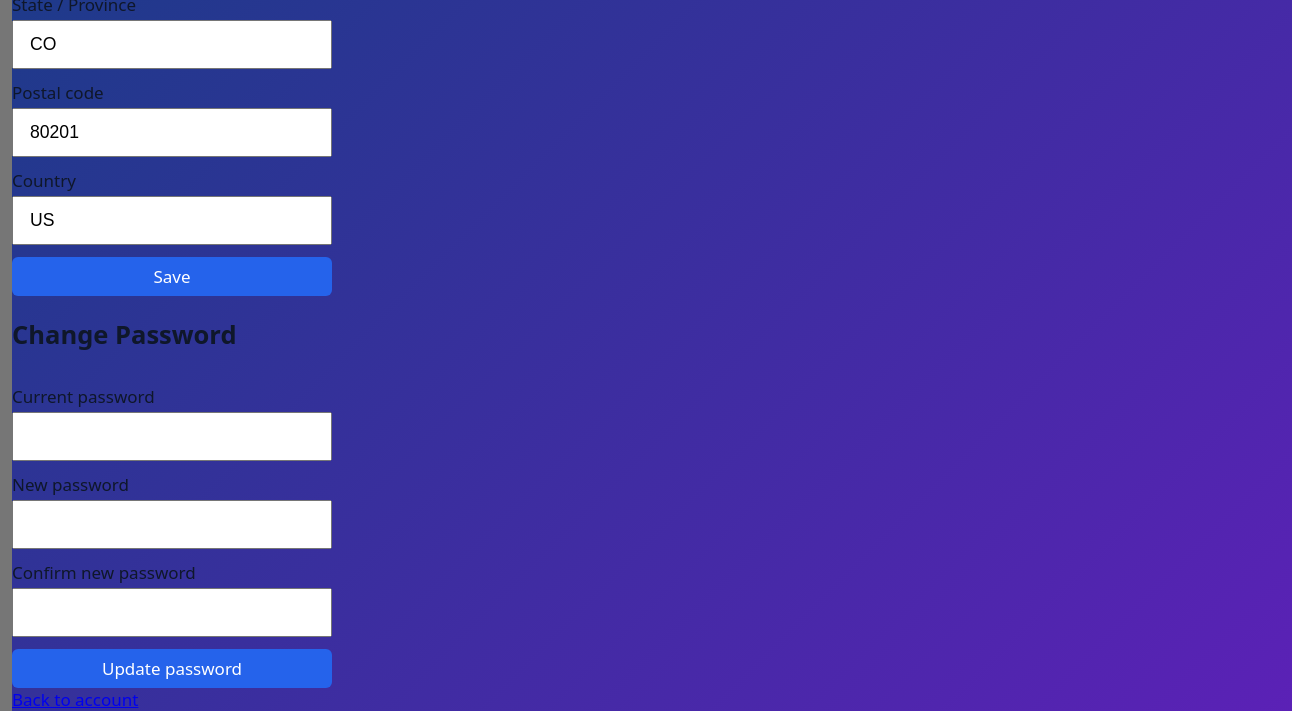
Test: EditProfileView › Change Password › shows error when changePassword API fails
(page scrolled)
Type "wrongpass" into the password field labelled "Current password".
click(172, 436); type("wrongpass")  # box [12, 412, 332, 461]
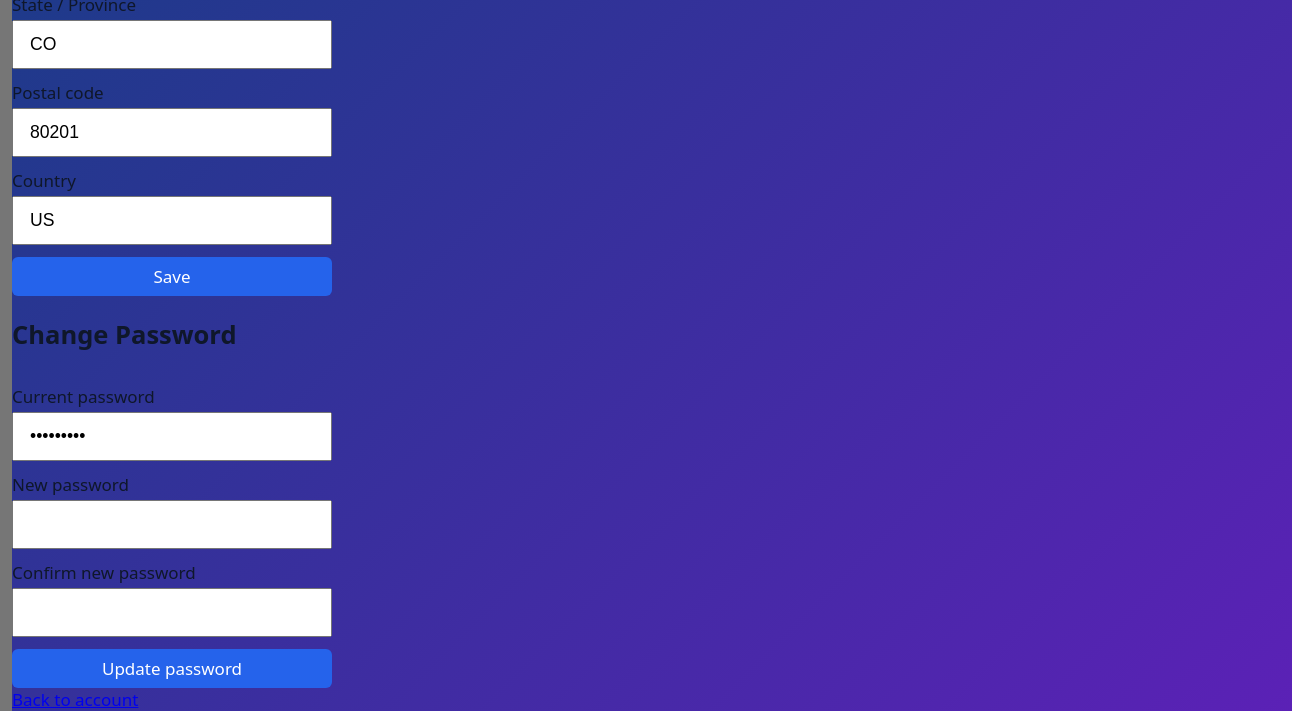
Type "newpass123" into the password field labelled "New password".
click(172, 524); type("newpass123")  # box [12, 500, 332, 549]
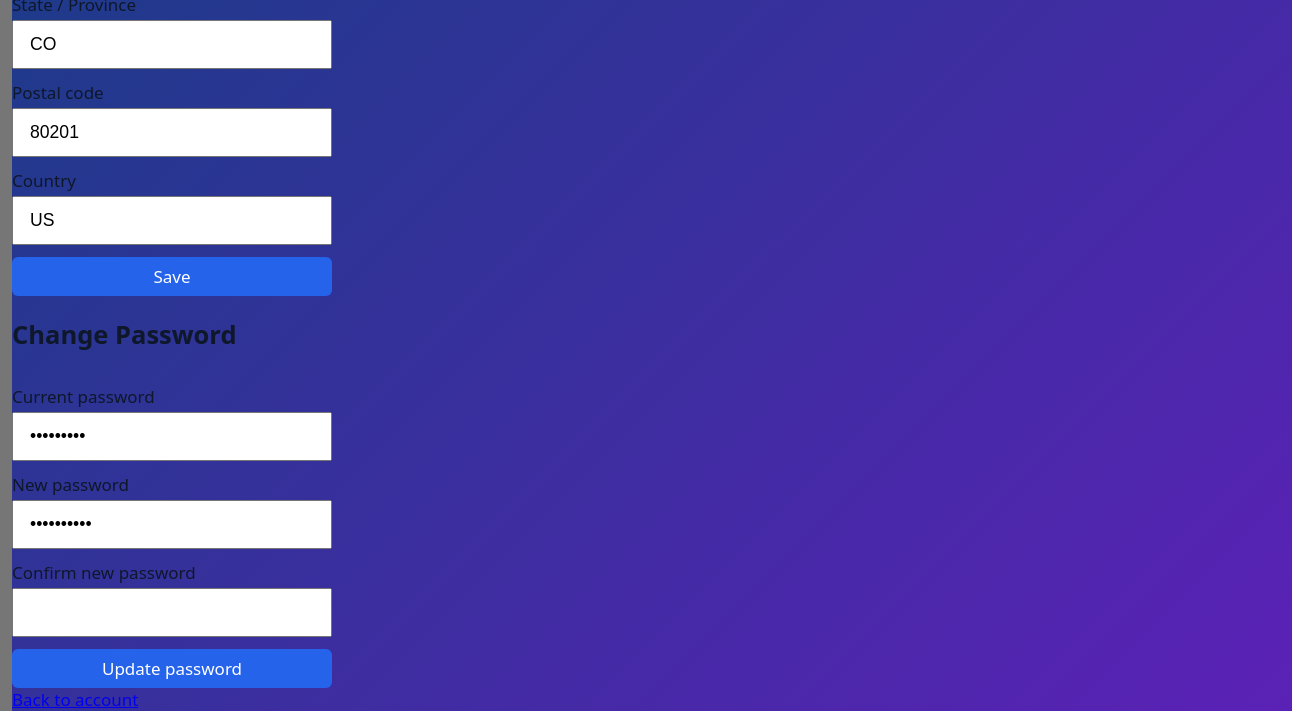
Type "newpass123" into the password field labelled "Confirm new password".
click(172, 612); type("newpass123")  # box [12, 588, 332, 637]
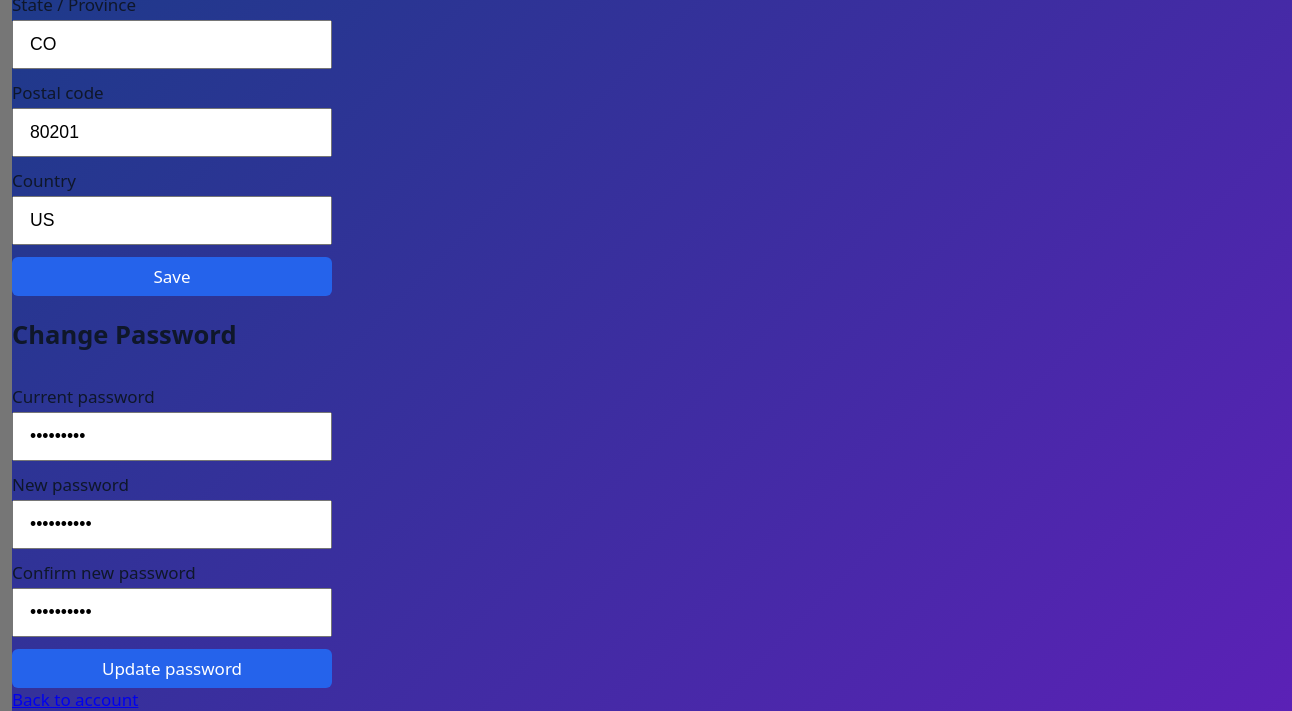
Submit the form that starts with "Change Password", box [12, 296, 332, 688]
(page scrolled)
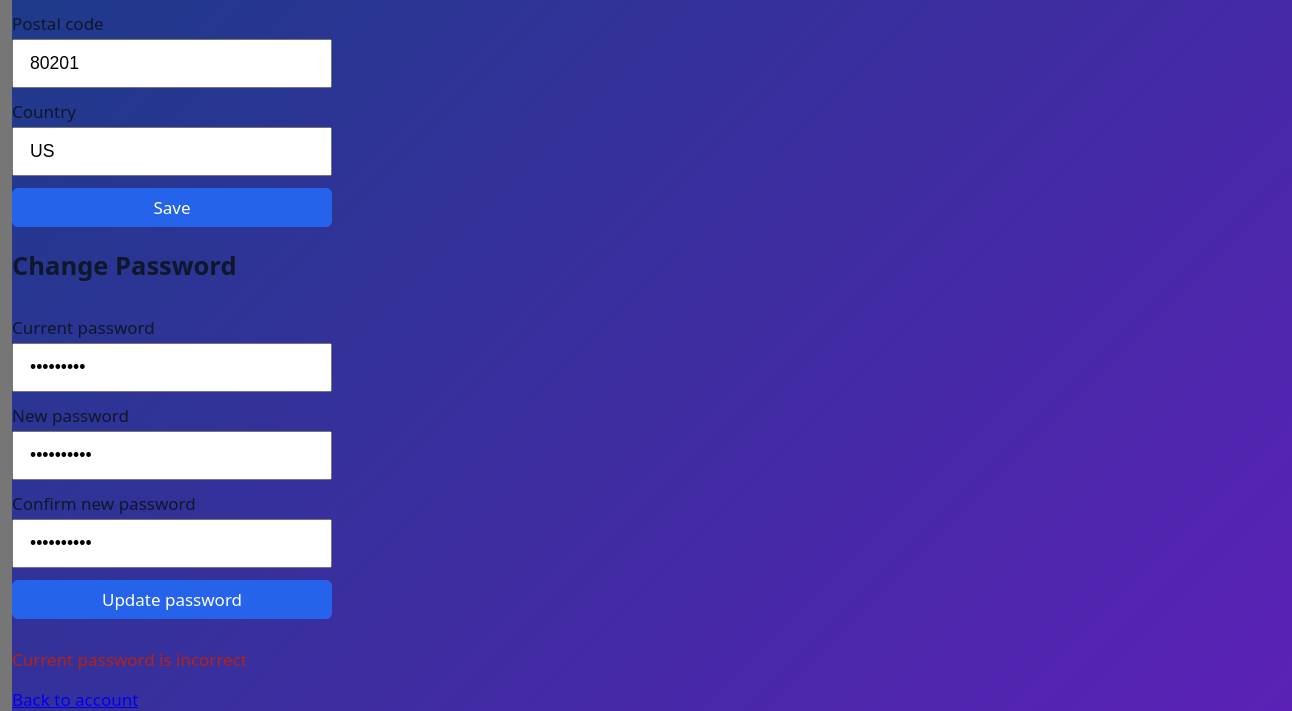
Expected: the message "Current password is incorrect" is shown, [12, 648, 247, 671]
